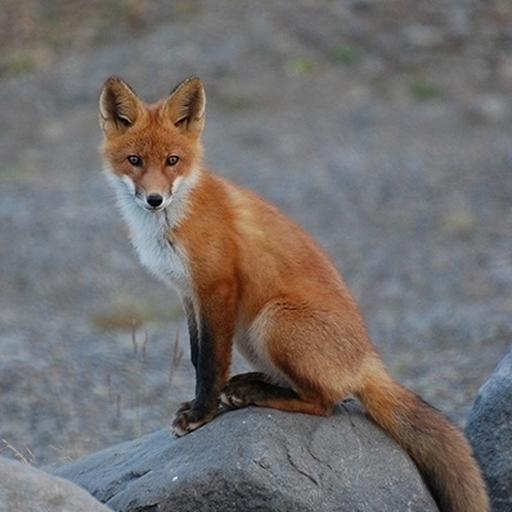Fox: (96, 76, 483, 510)
